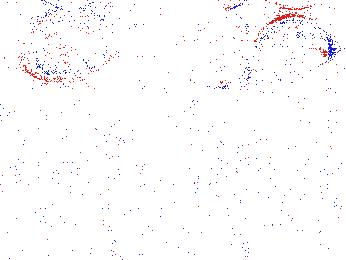moon jellyfish: (120, 5, 222, 89), (20, 9, 119, 82), (247, 14, 330, 91), (193, 11, 252, 89)
